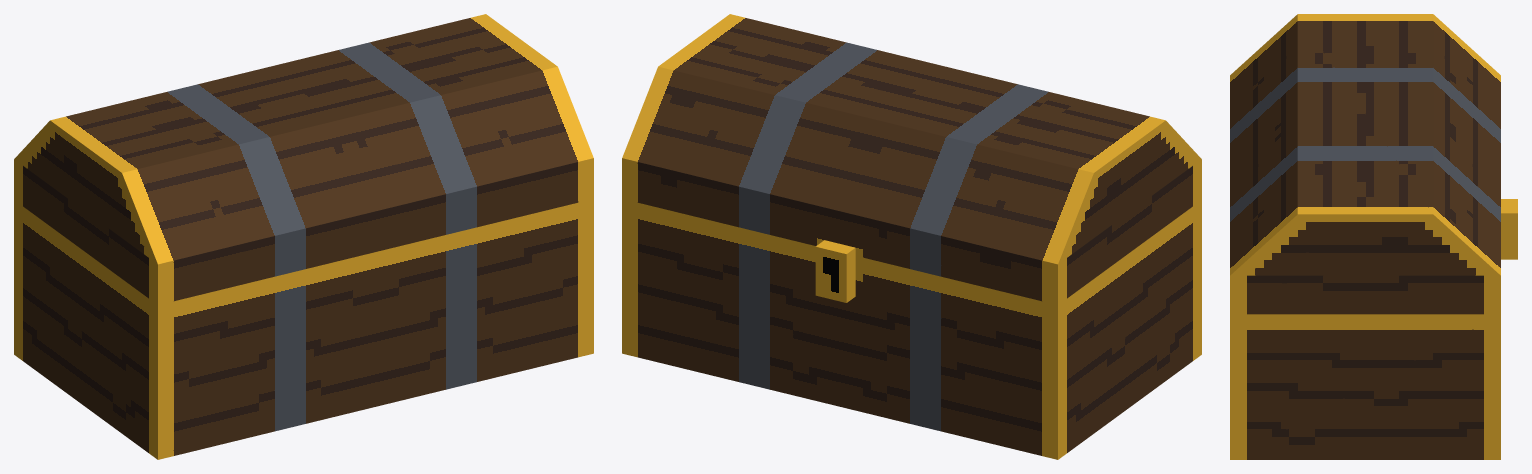
Rendered from Chest.gltf.
The picture shows the model from 3 angles, left to right: view 1: azimuth 30°, elevation 25°; view 2: azimuth 150°, elevation 25°; view 3: azimuth 270°, elevation 25°; orthographic projection. The views are drawn at different scales.
Parts seen in each view (by area): view 1: cube (×2); view 2: cube (×3); view 3: cube (×3).
Part boxes in pixels (x1,y1,x2,y2): cube (×2): (14,14,593,459); cube (×3): (622,14,1201,459); cube (×3): (1230,14,1517,459).
Size of the model in its own units: 1.75 by 1 by 1.06.
3 materials, 3 textured.
